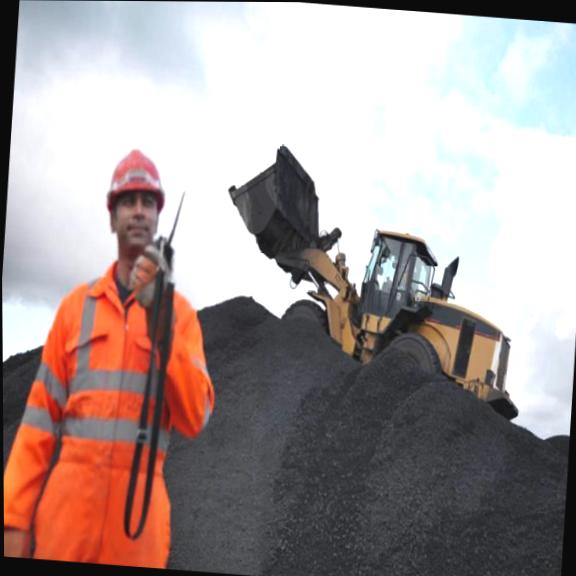safety_vest: (2, 267, 207, 549)
